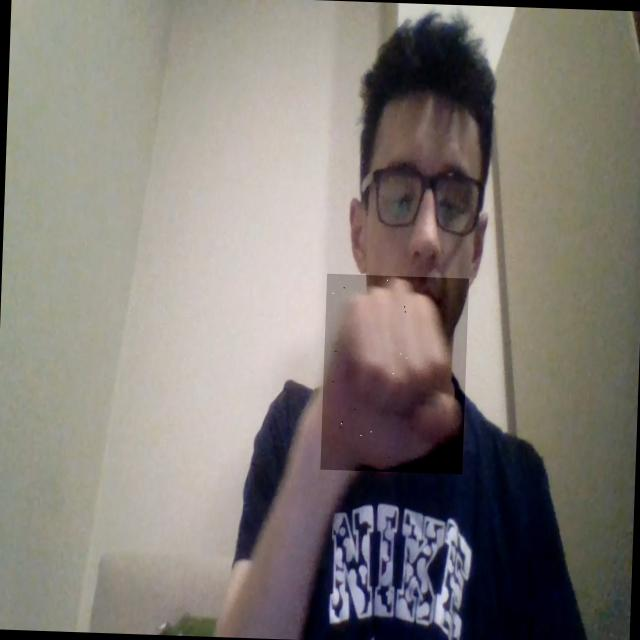yes: (320, 273, 468, 474)
